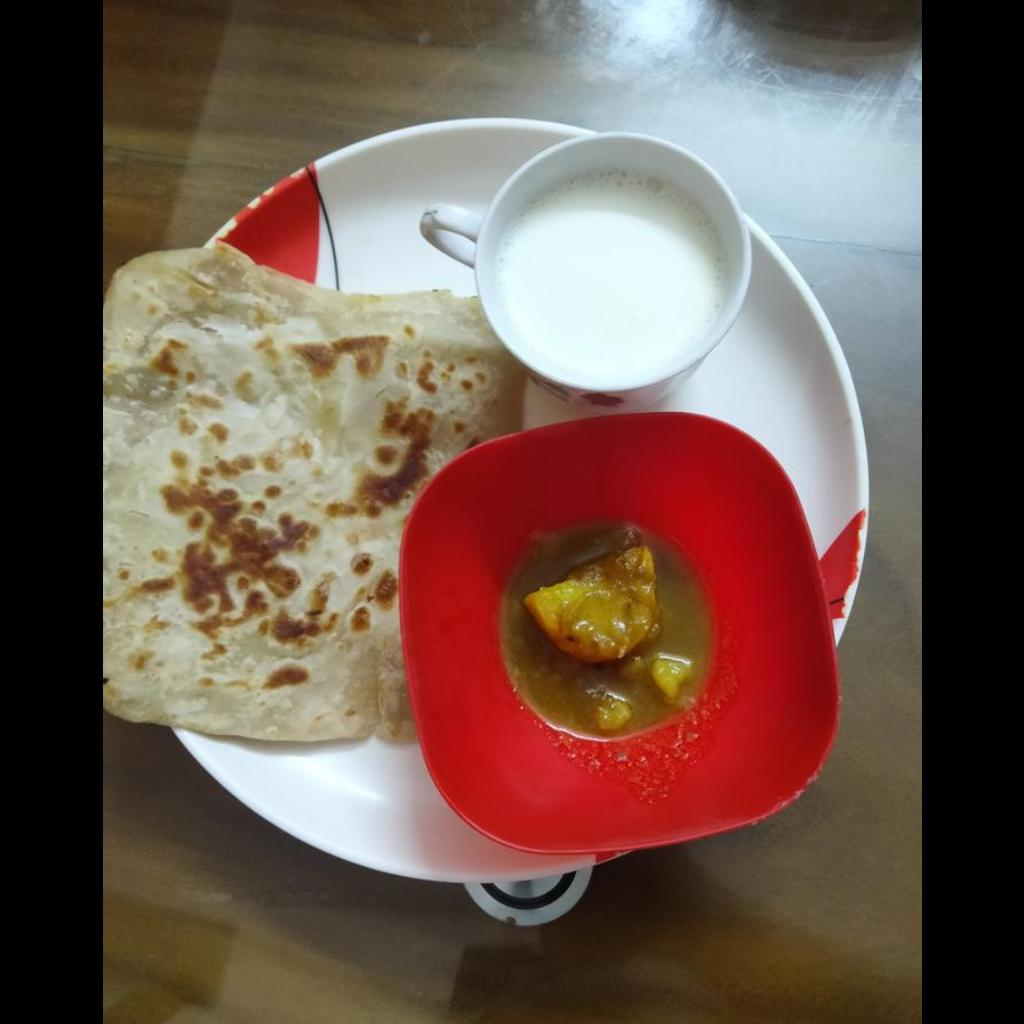milk: (488, 171, 726, 379)
potato: (524, 543, 660, 663)
ruti: (102, 247, 523, 747)
